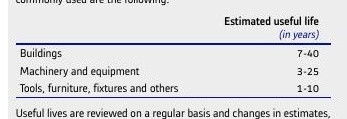table: (0, 0, 347, 119)
